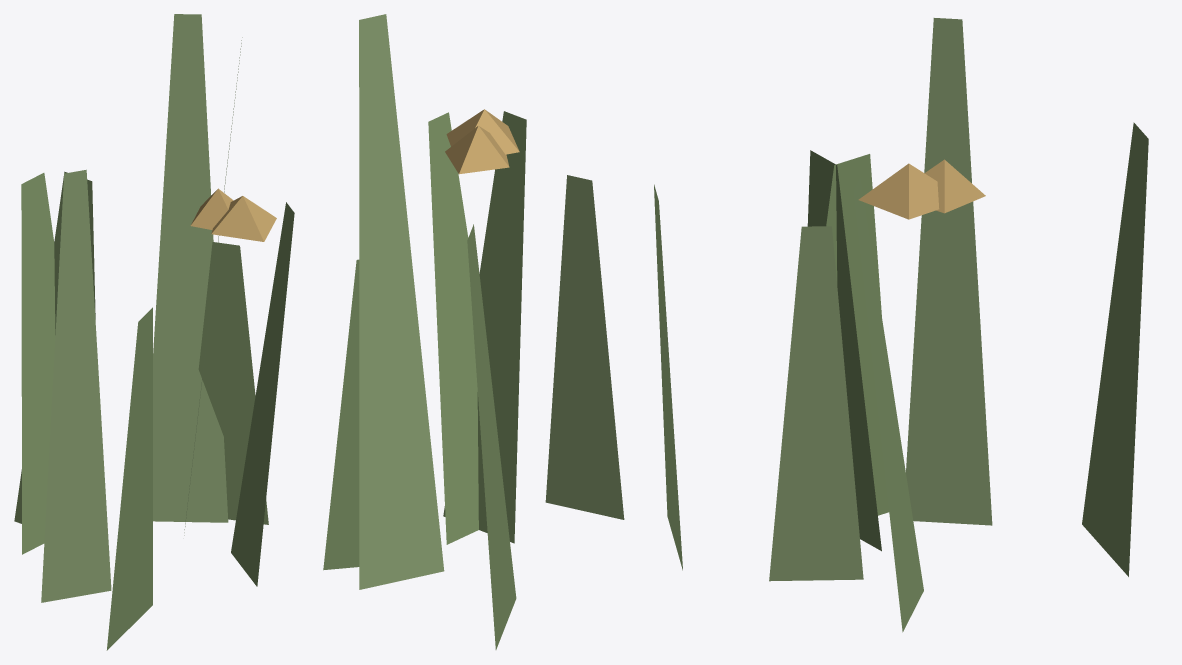
Rendered from crop.temp.rice__summer.glb.
The picture shows the model from 3 angles, left to right: view 1: azimuth 30°, elevation 25°; view 2: azimuth 150°, elevation 25°; view 3: azimuth 270°, elevation 25°; orthographic projection. The views are drawn at different scales.
Visible parts, largest first — view 1: crop.temp.rice__summer; view 2: crop.temp.rice__summer; view 3: crop.temp.rice__summer.
Boxes of the visible parts, left/top/right/bottom form: crop.temp.rice__summer: left=14, top=14, right=294, bottom=650; crop.temp.rice__summer: left=323, top=14, right=682, bottom=649; crop.temp.rice__summer: left=769, top=18, right=1148, bottom=632.
Bounding box in the file's own units: 0.4922 × 0.8973 × 0.5649.
